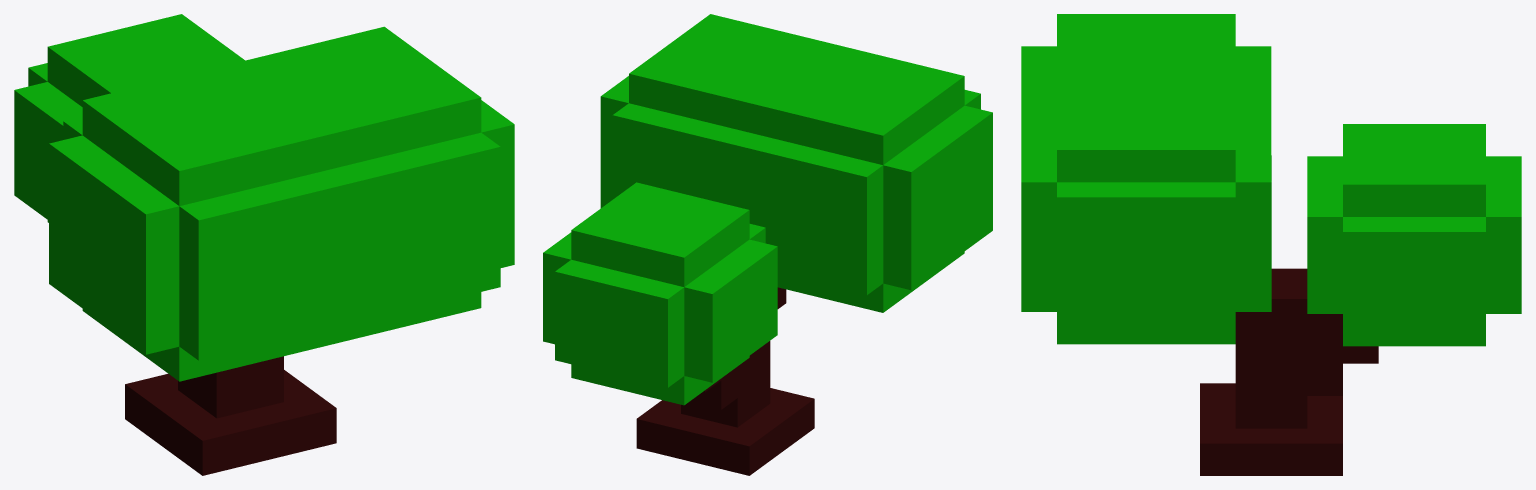
Rendered from Bush_1.fbx.
The picture shows the model from 3 angles, left to right: view 1: azimuth 30°, elevation 25°; view 2: azimuth 150°, elevation 25°; view 3: azimuth 270°, elevation 25°; orthographic projection. The views are drawn at different scales.
Parts seen in each view (by area): view 1: Bush_1; view 2: Bush_1; view 3: Bush_1.
Boxes of the visible parts, x1,y1,x2,y2 form: Bush_1: [14, 14, 514, 475]; Bush_1: [543, 14, 992, 475]; Bush_1: [1021, 14, 1521, 475].
Bounding box in the file's own units: 1100 × 1100 × 1400.
